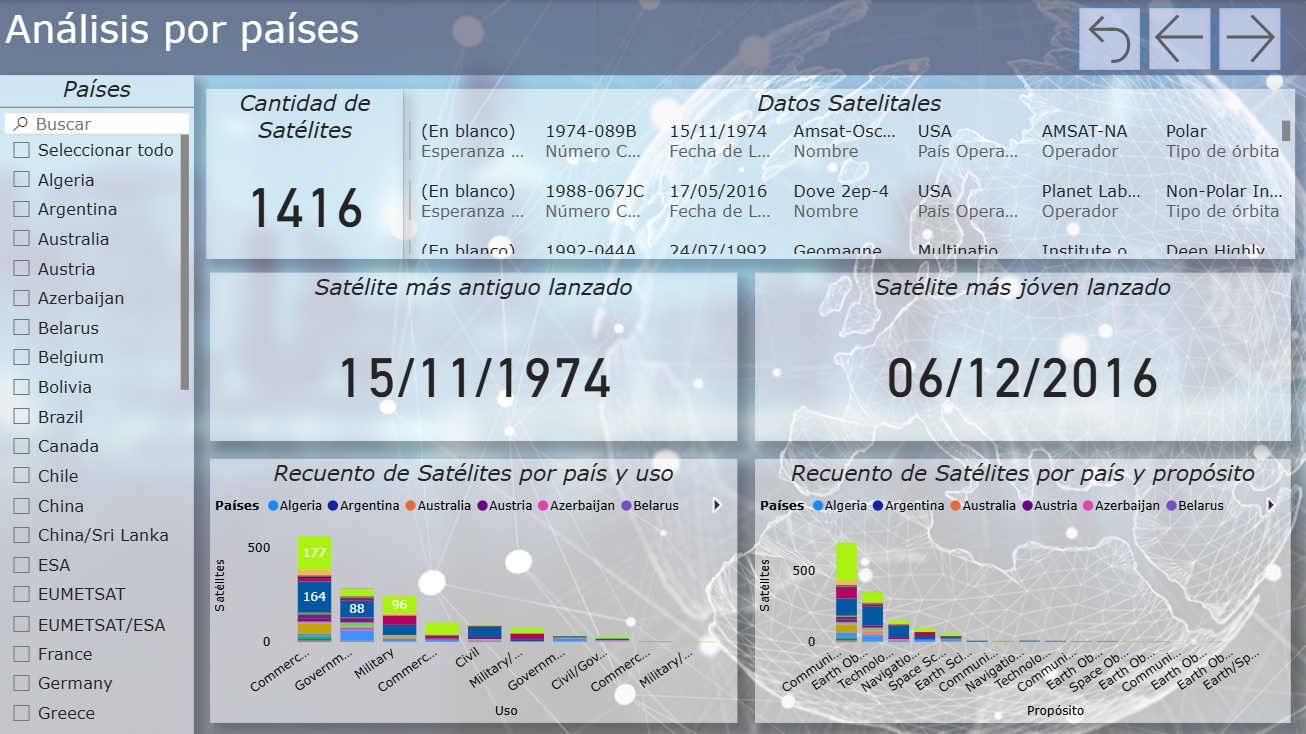

What the dashboard file says about the page in this screenshot:
{"tool":"powerbi","page":{"name":"Países","canvas":[1280,720],"ordinal":1},"visuals":[{"type":"textbox","box":[0,0,1280,73.9],"z":0},{"type":"actionButton","box":[1115.9,0,95.6,75.8],"z":1000},{"type":"actionButton","box":[1184.6,0,95.6,76.4],"z":2000},{"type":"slicer","title":"Países","fields":{"Values":["Países.Nombre"]},"box":[0,73.9,189.8,646.7],"z":3000},{"type":"card","title":"Cantidad de Satélites","fields":{"Values":["Medidas.Cantidad de Satélites"]},"box":[201.6,87.3,193.2,166.3],"z":4000},{"type":"card","title":"Satélite más jóven lanzado","fields":{"Values":["Medidas.Satélite más joven"]},"box":[739.1,267.1,524.1,164.6],"z":5000},{"type":"card","title":"Satélite más antiguo lanzado","fields":{"Values":["Medidas.Satélite más viejo"]},"box":[204.9,267.1,515.7,164.6],"z":6000},{"type":"columnChart","title":"Recuento de Satélites por país y uso","fields":{"Category":["Usos.Tipo"],"Y":["CountNonNull(Satélites.SatélitesID)"],"Series":["Países.Nombre"]},"box":[204.9,448.5,515.7,258.7],"z":7000},{"type":"columnChart","title":"Recuento de Satélites por país y propósito ","fields":{"Category":["Propósitos.Tipo"],"Y":["CountNonNull(Satélites.SatélitesID)"],"Series":["Países.Nombre"]},"box":[739.1,448.5,524.1,258.7],"z":8000},{"type":"multiRowCard","title":"Datos Satelitales","fields":{"Values":["Satélites.Esperanza de vida (Años)","Satélites.Número COSPAR","Satélites.Fecha de Lanzamiento","Satélites.Nombre","Satélites.País Operador","Satélites.Operador","Satélites.Tipo de órbita"]},"box":[394.8,87.3,871.8,166.3],"z":9000},{"type":"actionButton","box":[1047.9,0,75.2,76.4],"z":10000}]}

Visuals, with their boxes in screenshot pixels (x1, y1, x2, y2), scaled from the page's 1280x720 canvas onto the 1306x734 screenshot:
textbox: (0, 0, 1305, 75)
actionButton: (1139, 0, 1236, 77)
actionButton: (1209, 0, 1305, 78)
"Países" slicer: (0, 75, 194, 733)
"Cantidad de Satélites" card: (206, 89, 403, 259)
"Satélite más jóven lanzado" card: (754, 272, 1289, 440)
"Satélite más antiguo lanzado" card: (209, 272, 735, 440)
"Recuento de Satélites por país y uso" columnChart: (209, 457, 735, 721)
"Recuento de Satélites por país y propósito " columnChart: (754, 457, 1289, 721)
"Datos Satelitales" multiRowCard: (403, 89, 1292, 259)
actionButton: (1069, 0, 1146, 78)
